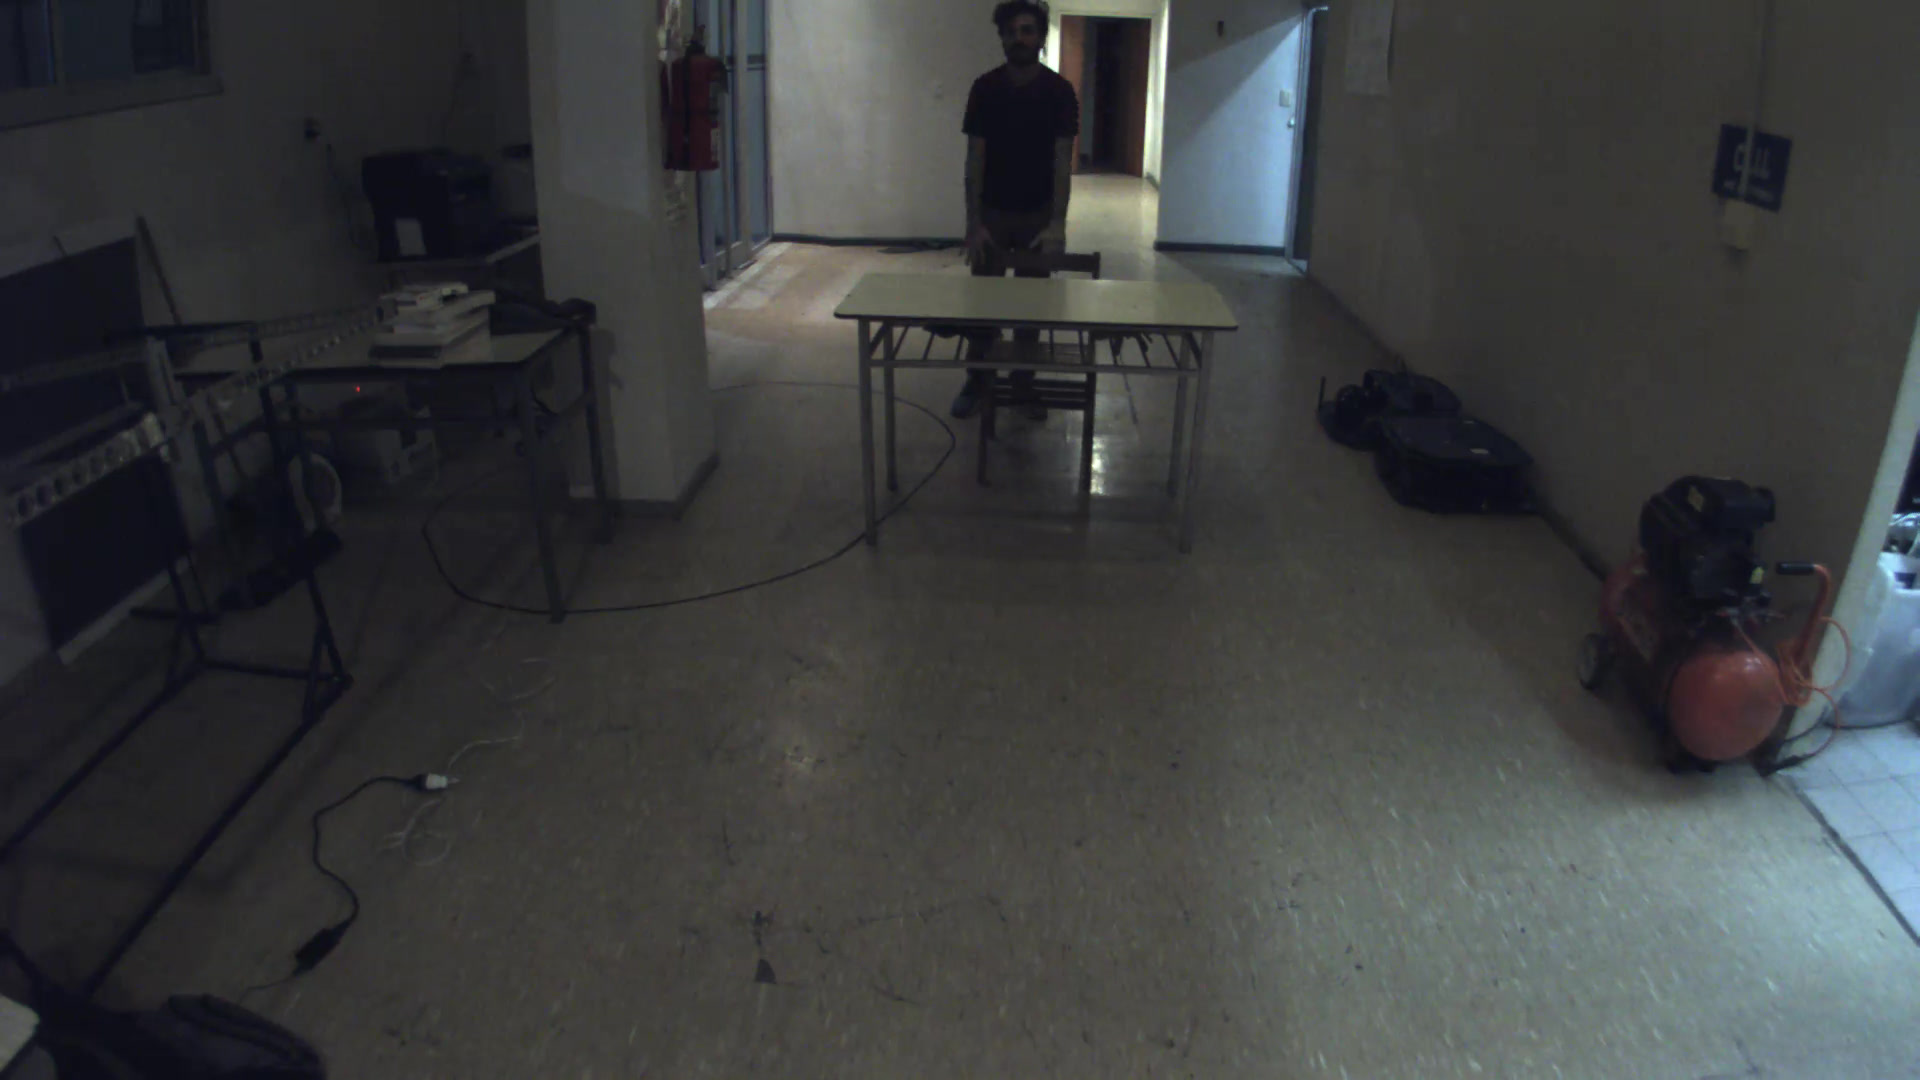hand: (949, 219, 1004, 272)
